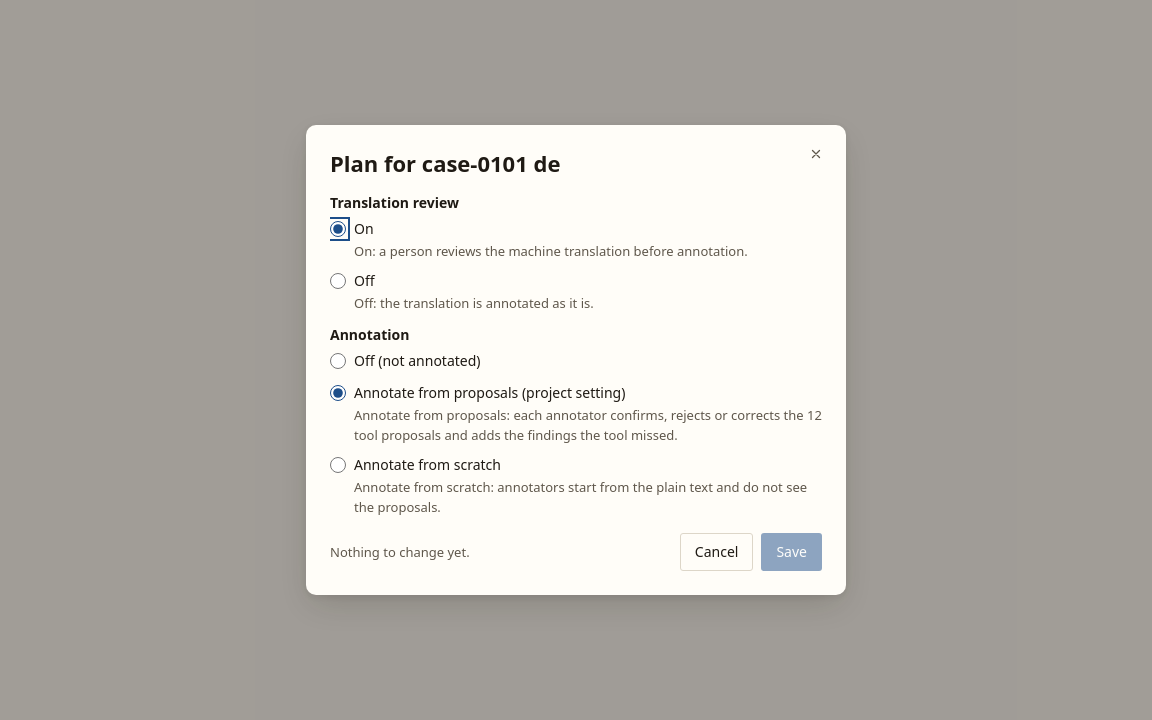
Test: TextPlanDialog › a refused mode shows the reason and keeps the dialog open with the choices
Click the radio button labelled "Annotate from scratch". click: (338, 465)
box: [330,457,346,473]
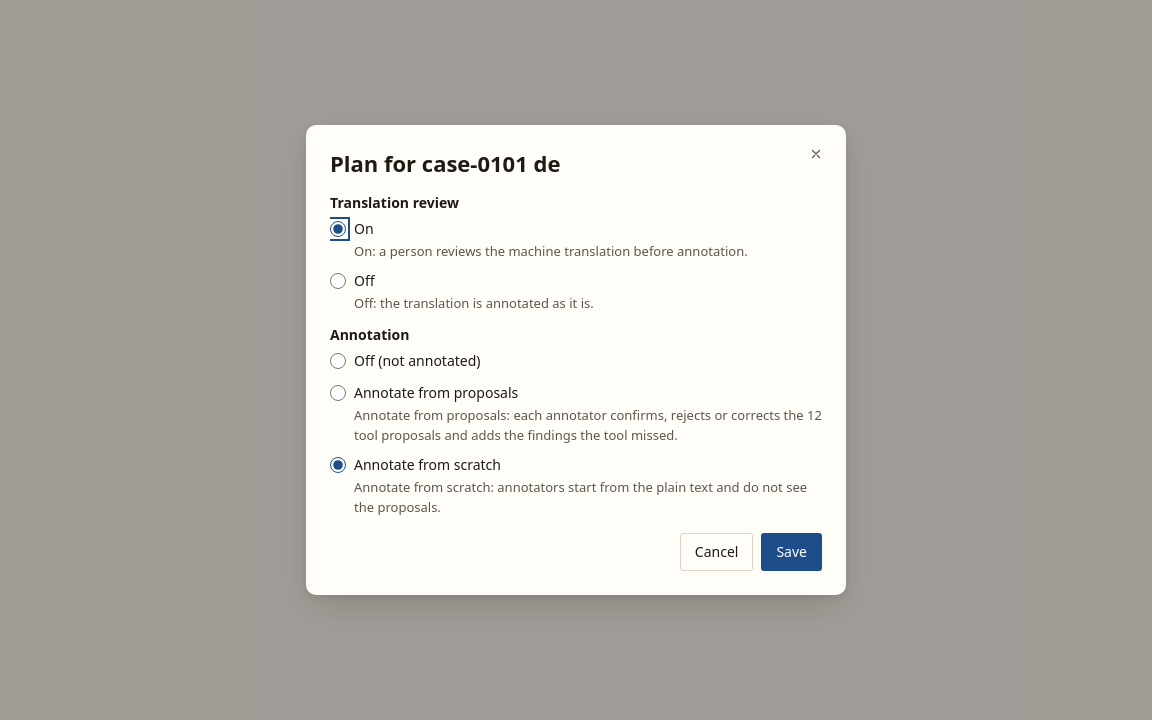
Click the button "Save". click: (792, 552)
box: [761,533,822,571]
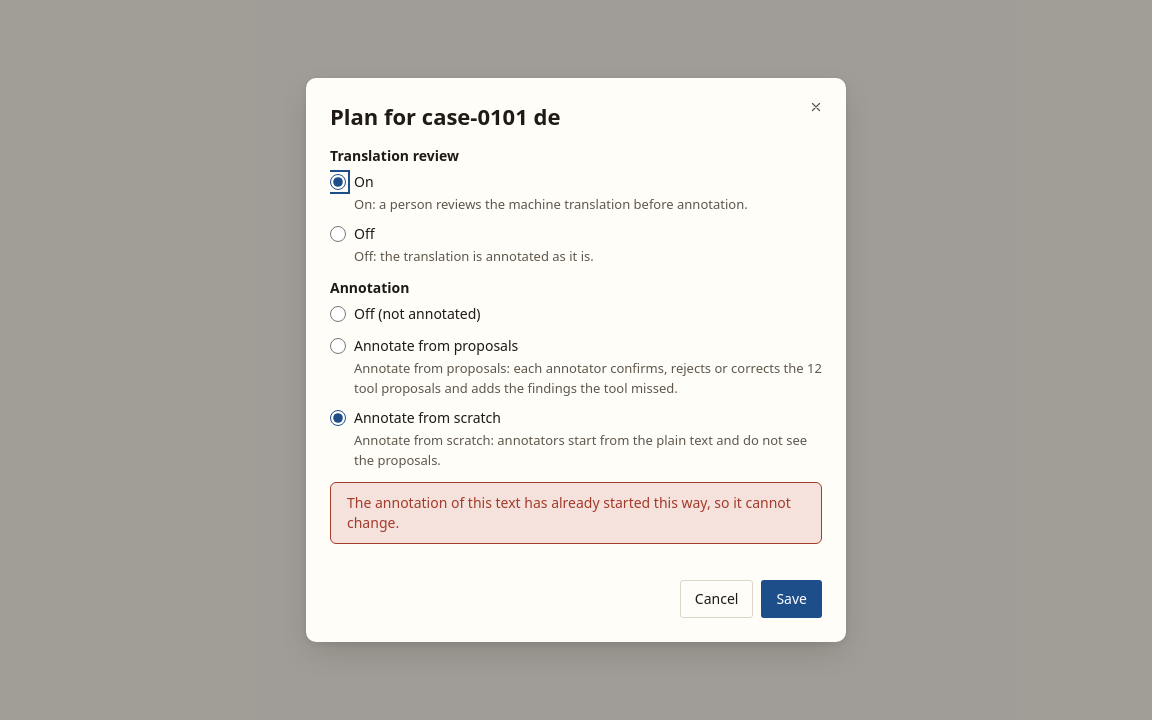
Now the radio button labelled "Annotate from scratch" is checked, box [330,410,346,426]
Now the text "The annotation of this text has already started this way, so it cannot change." is shown, box [347,493,805,533]
